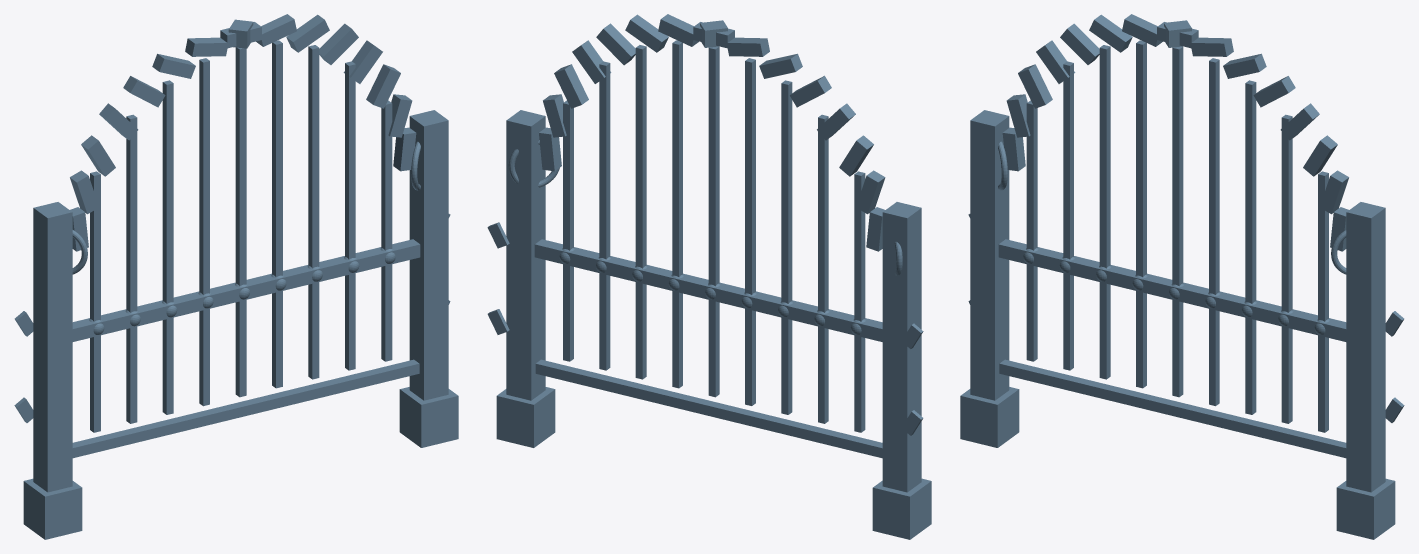
3 views of the same model, side by side, from view 1: azimuth 30°, elevation 25°; view 2: azimuth 150°, elevation 25°; view 3: azimuth 330°, elevation 25° (orthographic).
Parts seen in each view (by area): view 1: Palo_Sinistro, Palo_Destro, Traversa_Centrale, Traversa_Inferiore, Sbarra_5, Sbarra_7, Sbarra_3, Sbarra_4, Sbarra_6, Sbarra_2, Sbarra_8, Base_Sinistra (+16 smaller); view 2: Palo_Sinistro, Palo_Destro, Traversa_Centrale, Traversa_Inferiore, Sbarra_5, Sbarra_7, Sbarra_3, Sbarra_4, Sbarra_6, Sbarra_8, Sbarra_2, Base_Sinistra (+17 smaller); view 3: Palo_Destro, Palo_Sinistro, Traversa_Centrale, Traversa_Inferiore, Sbarra_5, Sbarra_3, Sbarra_7, Sbarra_6, Sbarra_4, Sbarra_8, Sbarra_2, Base_Destra (+16 smaller).
Part boxes in pixels (x1,y1,x2,y2): Palo_Sinistro: (33, 202, 72, 492); Palo_Destro: (409, 110, 448, 400); Traversa_Centrale: (72, 239, 420, 341); Traversa_Inferiore: (72, 359, 419, 458); Sbarra_5: (235, 47, 246, 397); Sbarra_7: (308, 45, 319, 379); Sbarra_3: (162, 80, 173, 414); Sbarra_4: (199, 58, 209, 406); Sbarra_6: (272, 40, 282, 388); Sbarra_2: (126, 114, 137, 423); Sbarra_8: (345, 61, 355, 370); Base_Sinistra: (23, 478, 82, 539); Palo_Sinistro: (882, 202, 921, 492); Palo_Destro: (506, 110, 545, 400); Traversa_Centrale: (534, 239, 882, 341); Traversa_Inferiore: (535, 359, 882, 458); Sbarra_5: (708, 46, 719, 397); Sbarra_7: (635, 45, 646, 379); Sbarra_3: (781, 80, 792, 414); Sbarra_4: (745, 58, 755, 405); Sbarra_6: (672, 40, 682, 388); Sbarra_8: (599, 61, 610, 370); Sbarra_2: (818, 114, 828, 423); Base_Sinistra: (872, 478, 931, 539); Palo_Destro: (1346, 202, 1385, 492); Palo_Sinistro: (970, 110, 1009, 400); Traversa_Centrale: (998, 239, 1346, 341); Traversa_Inferiore: (999, 359, 1346, 458); Sbarra_5: (1172, 46, 1183, 397); Sbarra_3: (1099, 45, 1110, 379); Sbarra_7: (1245, 80, 1256, 414); Sbarra_6: (1209, 58, 1219, 406); Sbarra_4: (1136, 40, 1146, 388); Sbarra_8: (1281, 114, 1292, 423); Sbarra_2: (1063, 61, 1073, 370); Base_Destra: (1336, 478, 1395, 539).
Bounding box in the file's own units: 3.14 × 3.16 × 0.27.
